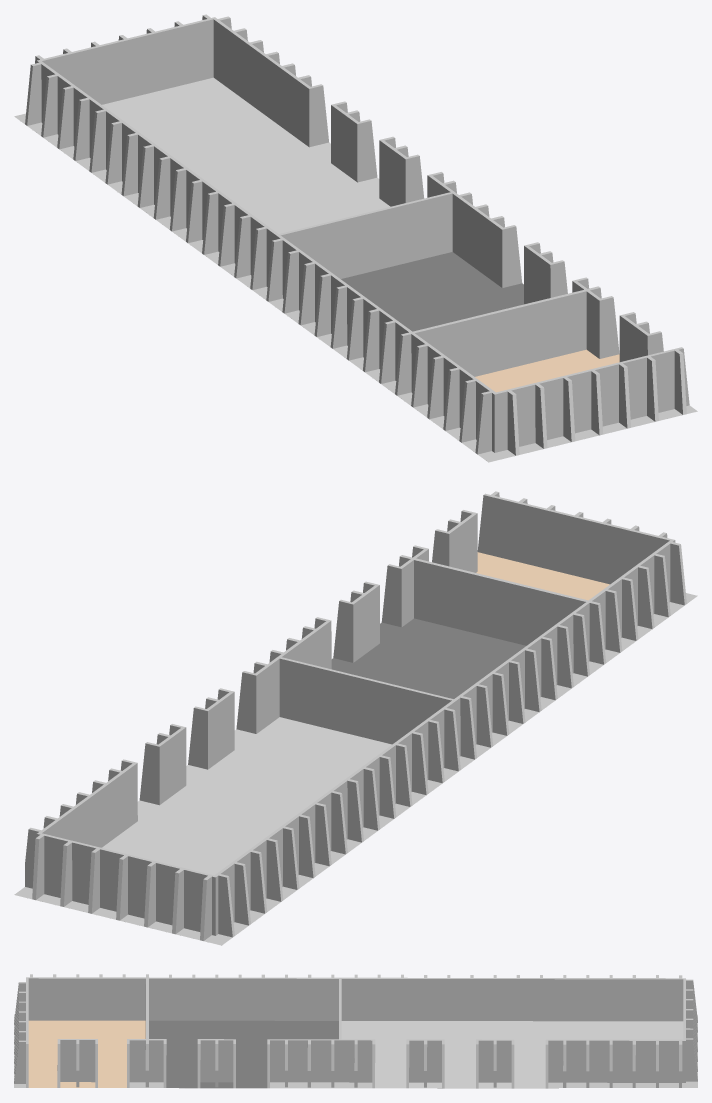
The model's file is cangqu.fbx.
3 renders of one model, top to bottom at view 1: azimuth 30°, elevation 25°; view 2: azimuth 150°, elevation 25°; view 3: azimuth 270°, elevation 25°, orthographic. The views are drawn at different scales.
Visible parts, largest first — view 1: 底部墙壁, 底部1, 底部2, 底部3, 底部4; view 2: 底部墙壁, 底部1, 底部2, 底部3, 底部4; view 3: 底部墙壁, 底部4, 底部1, 底部3, 底部2.
Boxes of the visible parts, x1=… form: 底部墙壁: x1=14, y1=14, x2=697, y2=462; 底部1: x1=331, y1=101, x2=377, y2=182; 底部2: x1=379, y1=136, x2=424, y2=206; 底部3: x1=524, y1=242, x2=567, y2=304; 底部4: x1=619, y1=312, x2=663, y2=361; 底部墙壁: x1=14, y1=491, x2=697, y2=945; 底部1: x1=139, y1=724, x2=186, y2=805; 底部2: x1=188, y1=688, x2=234, y2=769; 底部3: x1=333, y1=581, x2=379, y2=662; 底部4: x1=432, y1=510, x2=477, y2=572; 底部墙壁: x1=14, y1=974, x2=697, y2=1088; 底部4: x1=57, y1=1039, x2=97, y2=1087; 底部1: x1=476, y1=1039, x2=514, y2=1088; 底部3: x1=197, y1=1039, x2=235, y2=1088; 底部2: x1=406, y1=1039, x2=444, y2=1088.
Bounding box in the file's own units: 88.78 × 24.12 × 348.
